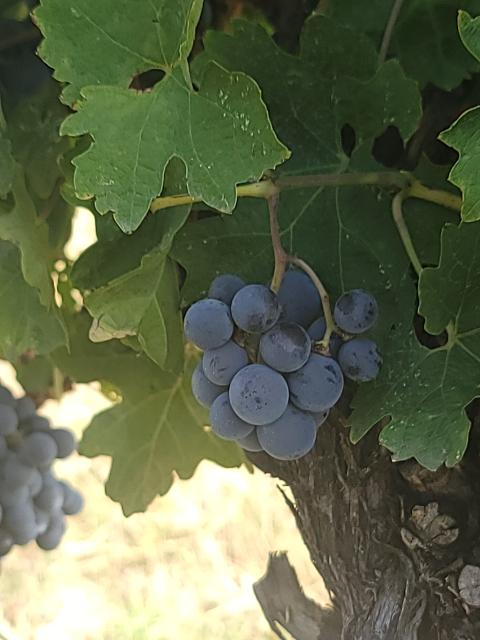grapes: (184, 270, 381, 460), (0, 386, 82, 555)
